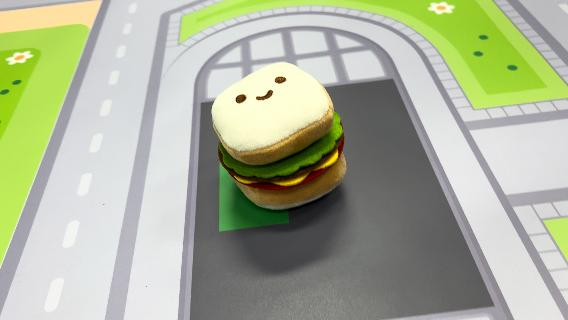sandwich: (210, 60, 350, 212)
